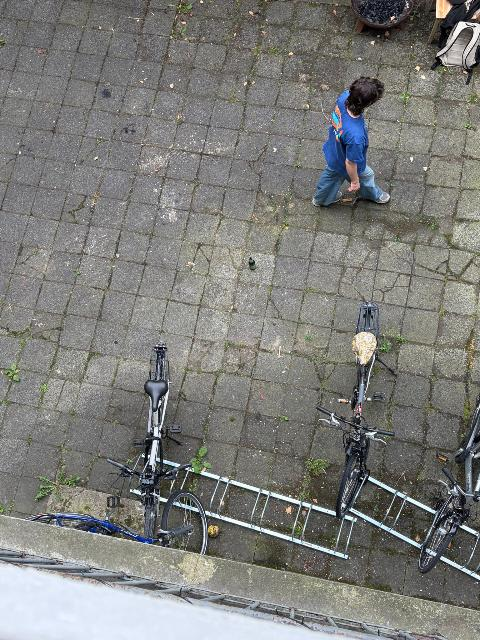glass_bottle: (249, 257, 256, 270)
